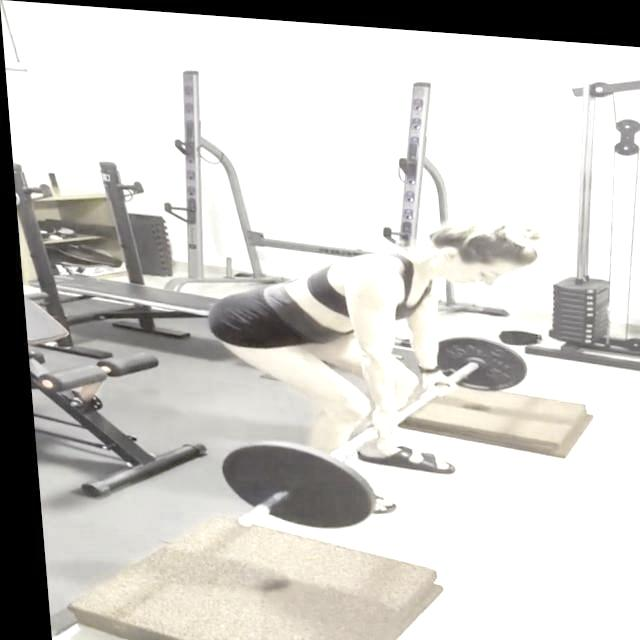barbell: (207, 432, 375, 539)
